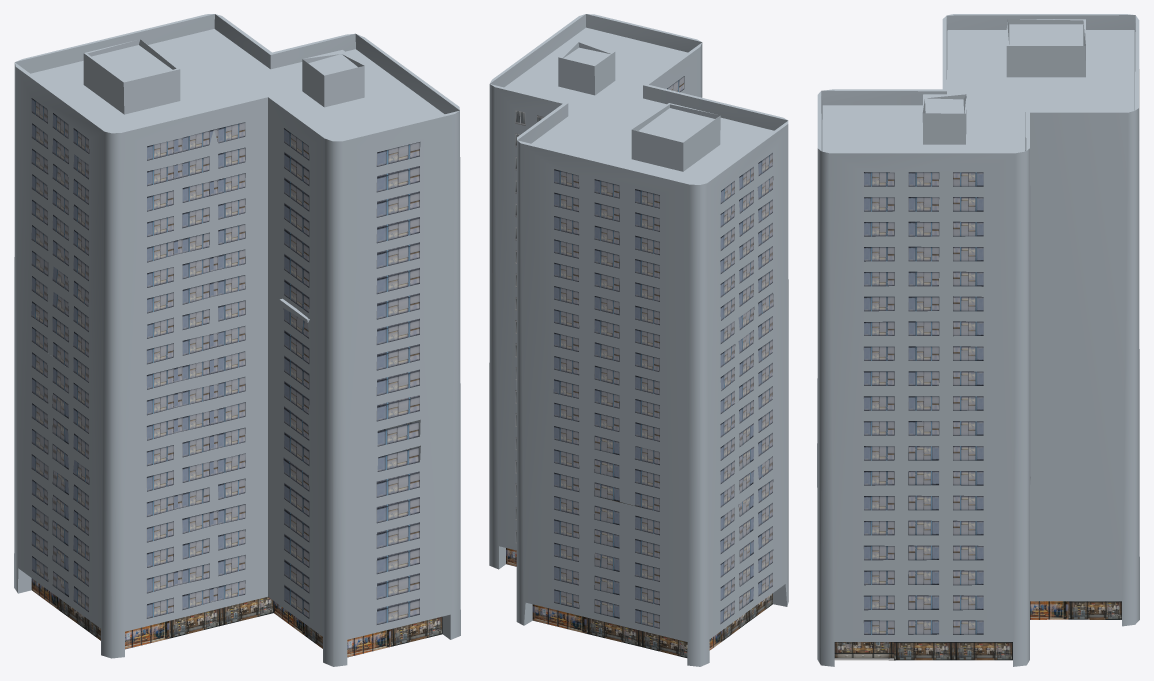
The model's file is Medium_Building_18.fbx.
3 views of the same model, side by side, from view 1: azimuth 30°, elevation 25°; view 2: azimuth 150°, elevation 25°; view 3: azimuth 270°, elevation 25° (orthographic). The views are drawn at different scales.
Parts seen in each view (by area): view 1: Medium_Building_18; view 2: Medium_Building_18; view 3: Medium_Building_18.
Part boxes in pixels (x1,y1,x2,y2): Medium_Building_18: [14, 14, 460, 666]; Medium_Building_18: [489, 14, 788, 666]; Medium_Building_18: [817, 14, 1139, 666].
Bounding box in the file's own units: 3857 × 6823 × 3760.
